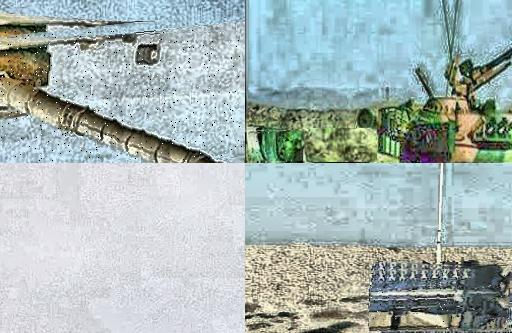tanks: (1, 31, 223, 164), (360, 47, 512, 164), (370, 269, 512, 333), (249, 132, 306, 163)
